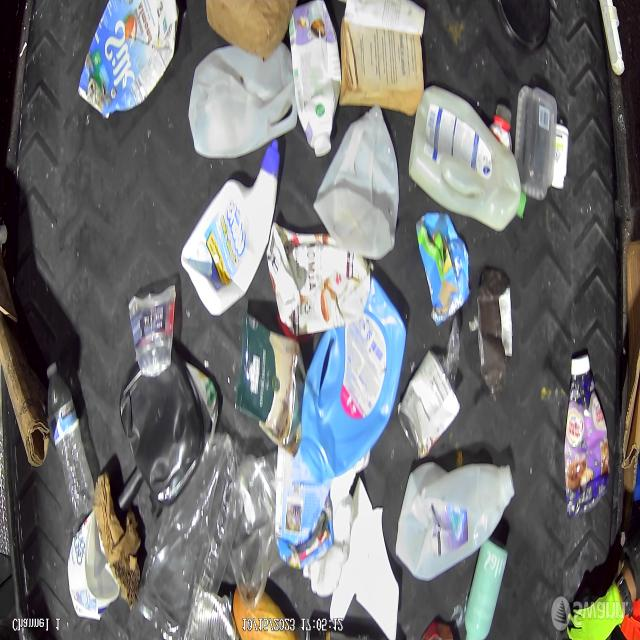can: (397, 348, 461, 462), (183, 589, 239, 640)
milk_jug: (413, 88, 530, 244), (392, 453, 517, 588), (183, 40, 299, 167), (315, 103, 399, 265)
non_white_jug: (303, 286, 405, 496), (72, 2, 174, 122)
plastic_bottle: (141, 452, 237, 636), (217, 453, 278, 592), (52, 366, 95, 522)
